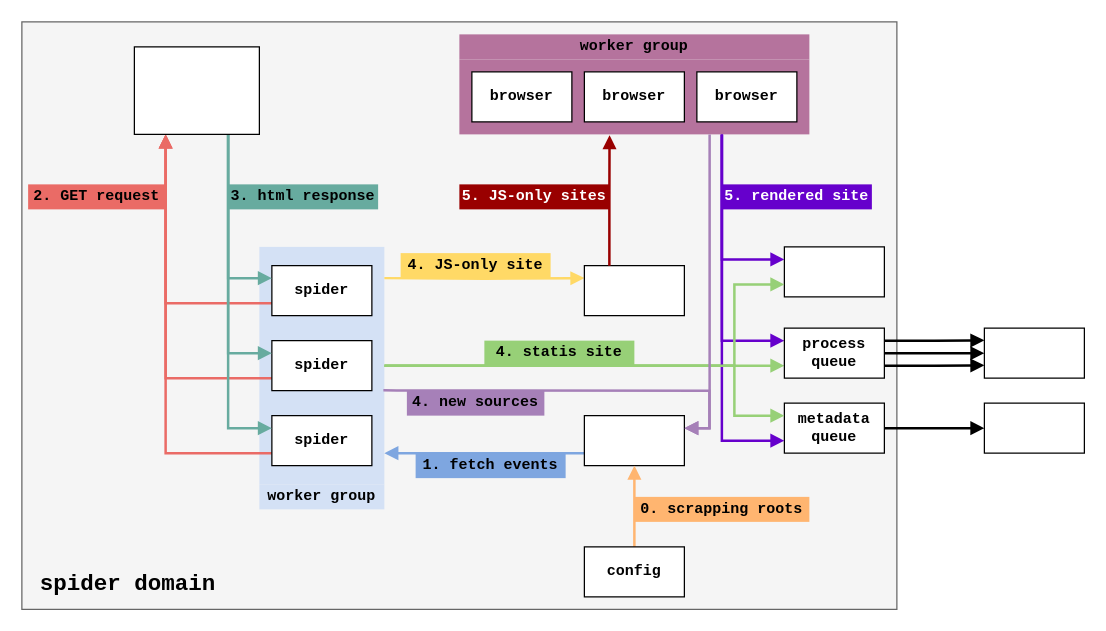
The diagram is 1106 pixels wide and 631 high, and some of its shapes have lost their labels. The shapes that lost their labels are listed below. From the top down, each one's box as (x1, y1, x2, y2) in pixels, then its label:
(133, 46, 259, 134): web
(583, 264, 684, 316): render queue
(783, 246, 884, 297): file storage
(983, 327, 1084, 378): NLP
(583, 414, 684, 466): fetch queue
(983, 402, 1084, 453): metadata store
